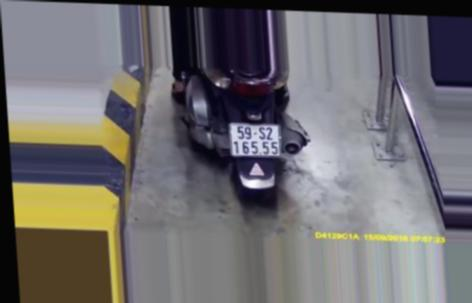License_Plate: (223, 116, 288, 164)
